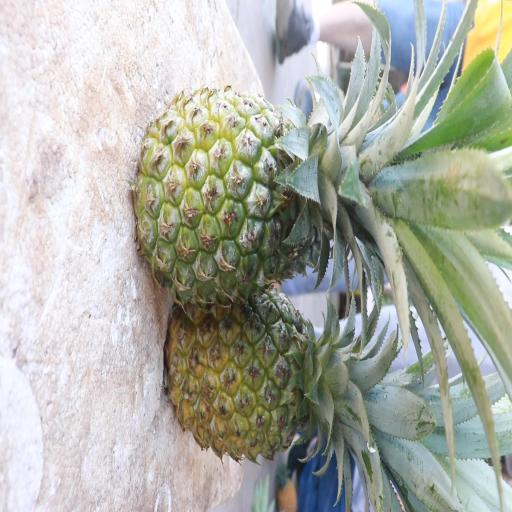------------------------------: (136, 82, 368, 286)
Pineapple - v8 v1: (169, 290, 352, 462)
